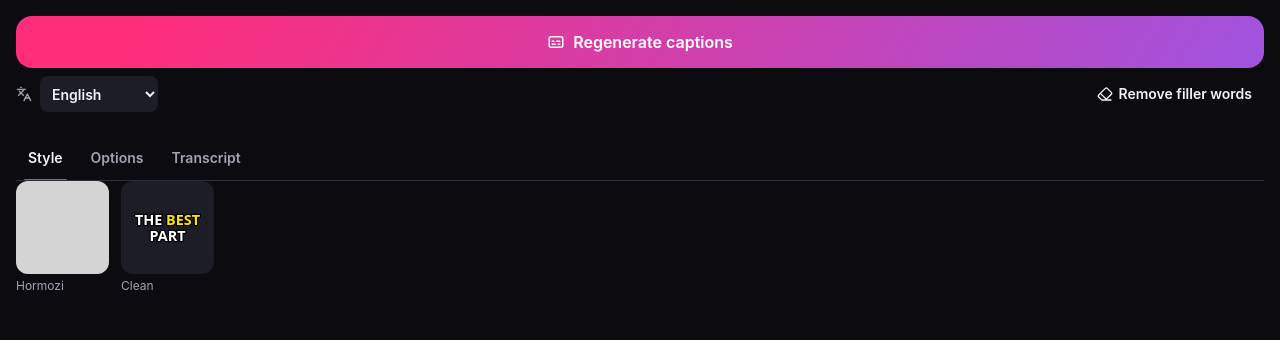
Test case: captions panel › transcript editor edits and deletes words; filler removal offered
The width and height of the screenshot is (1280, 340).
Later steps or results of the test are not shown.
Expected: the button "Remove filler words" is shown, x1=1084 y1=78 x2=1264 y2=110
Click the tab "Transcript" at x=206, y=158, box x1=160 y1=136 x2=253 y2=180
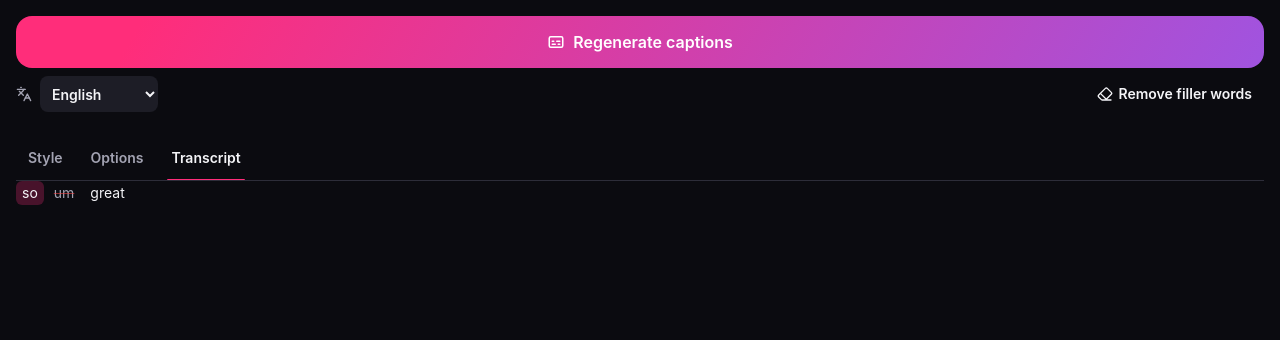
Click the button "great" at x=108, y=193, box x1=84 y1=181 x2=131 y2=205
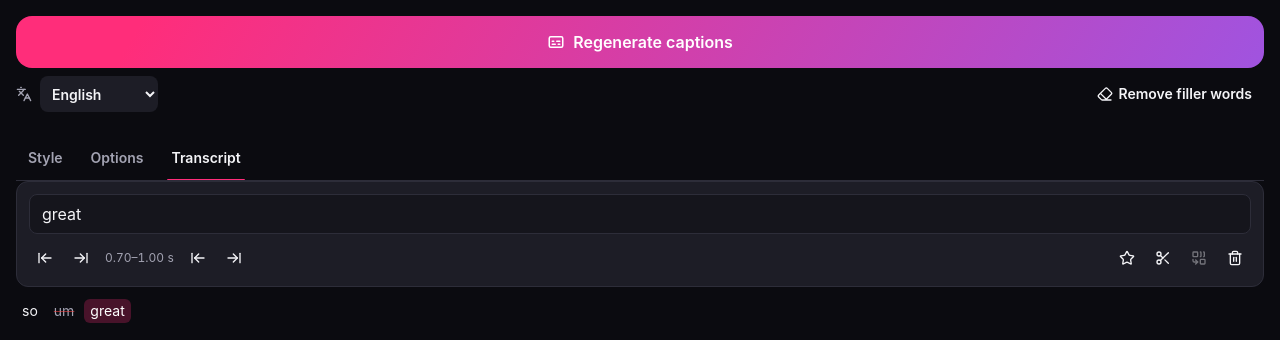
Replace the text in the field named "Word" with "awesome" at x=640, y=214, box x1=29 y1=194 x2=1251 y2=234
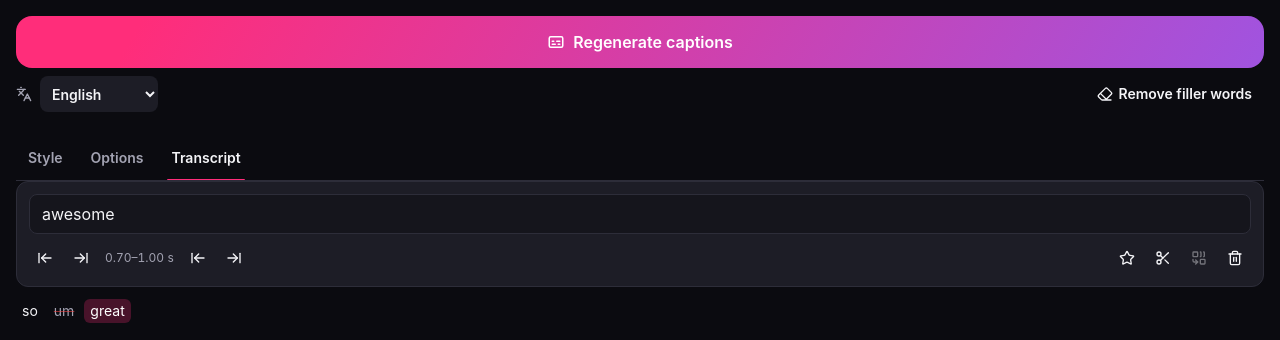
Leave the field named "Word", box x1=29 y1=194 x2=1251 y2=234
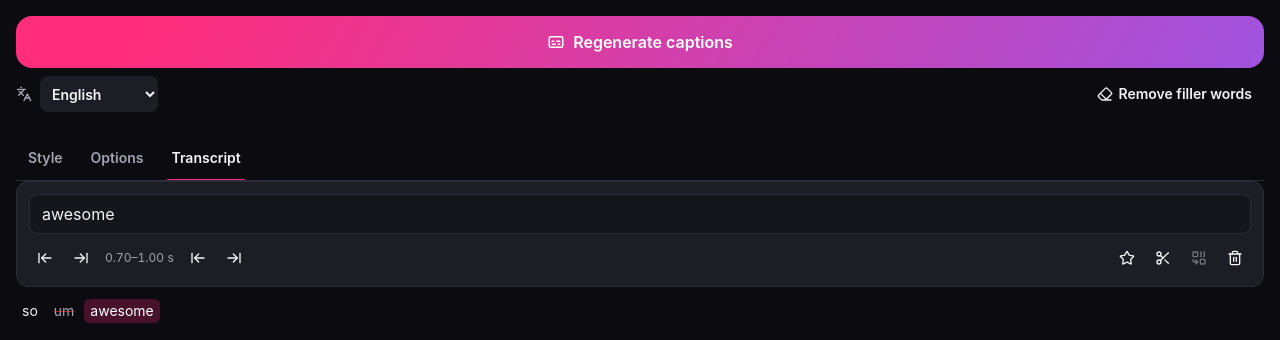
Expected: the button named "great" reads "awesome", x1=84 y1=299 x2=160 y2=323
